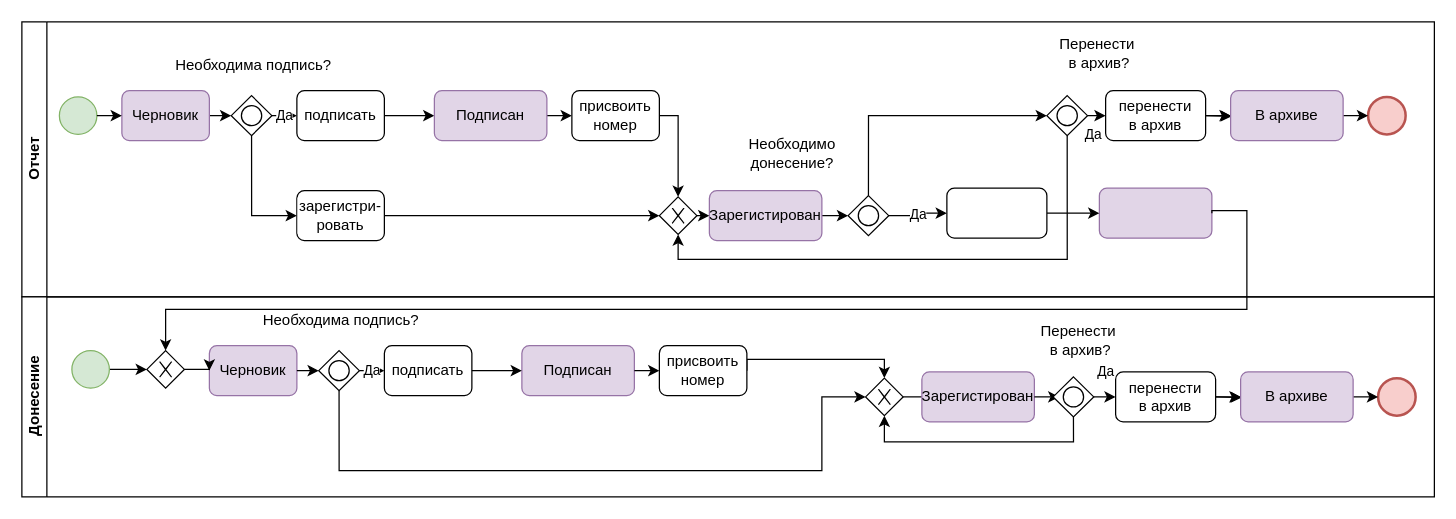
This 1456x519 diagram has some shape labels left out. Here are the shapes that lost their labels. From the top down, the centre of each, then its label:
At pixel 996 212: "создать".
At pixel 1155 212: "Создание донесения".
